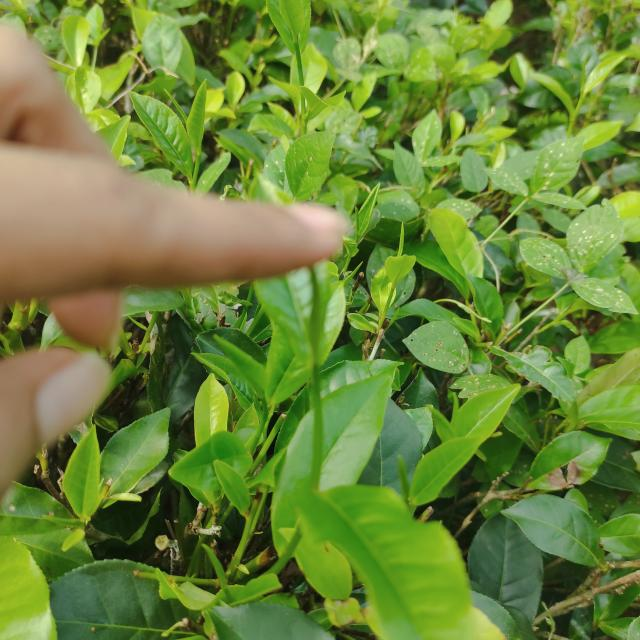unopened_leaf: (298, 260, 334, 383), (198, 538, 240, 602), (270, 0, 309, 47), (159, 84, 196, 130), (35, 512, 94, 534), (391, 217, 412, 260), (339, 257, 366, 290), (350, 198, 367, 238)
